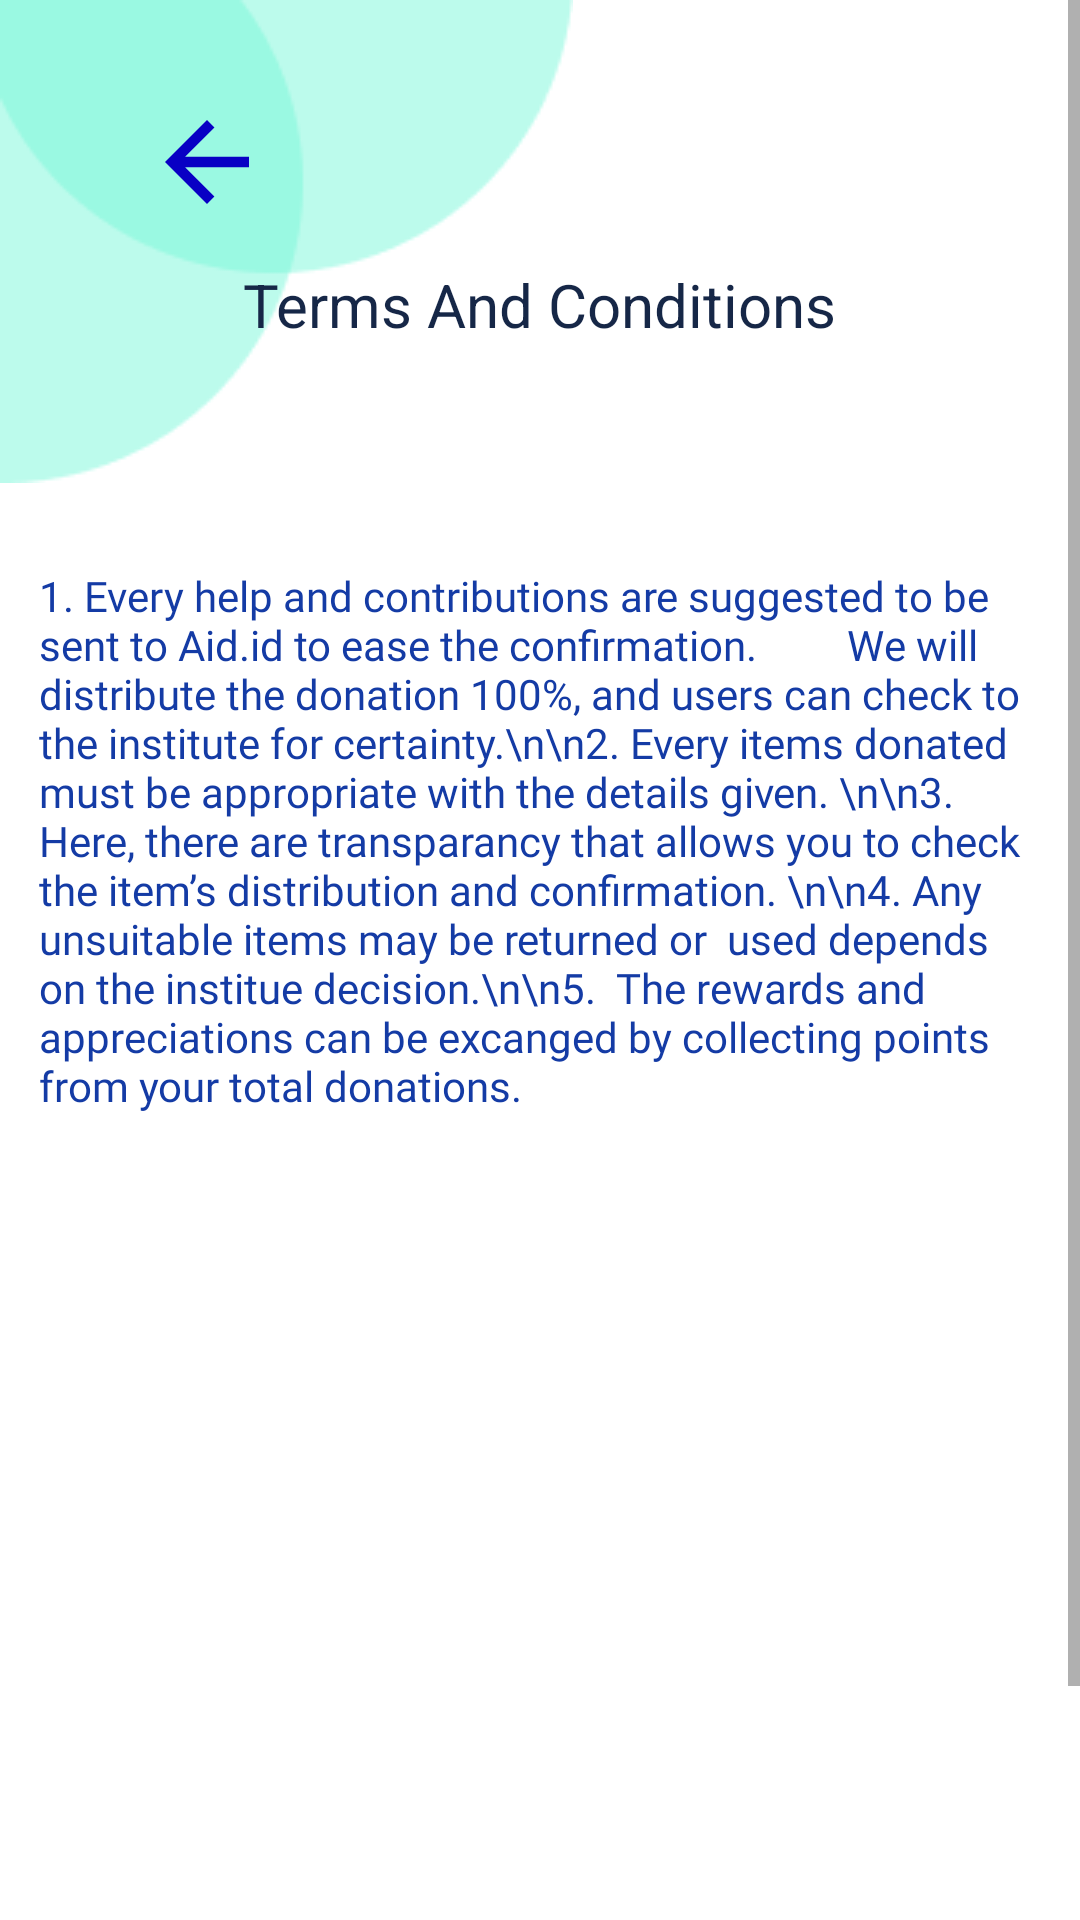

Icon click points for this 1080 x 1920 phone screenshot, format [x,y]:
back: [207,162]
